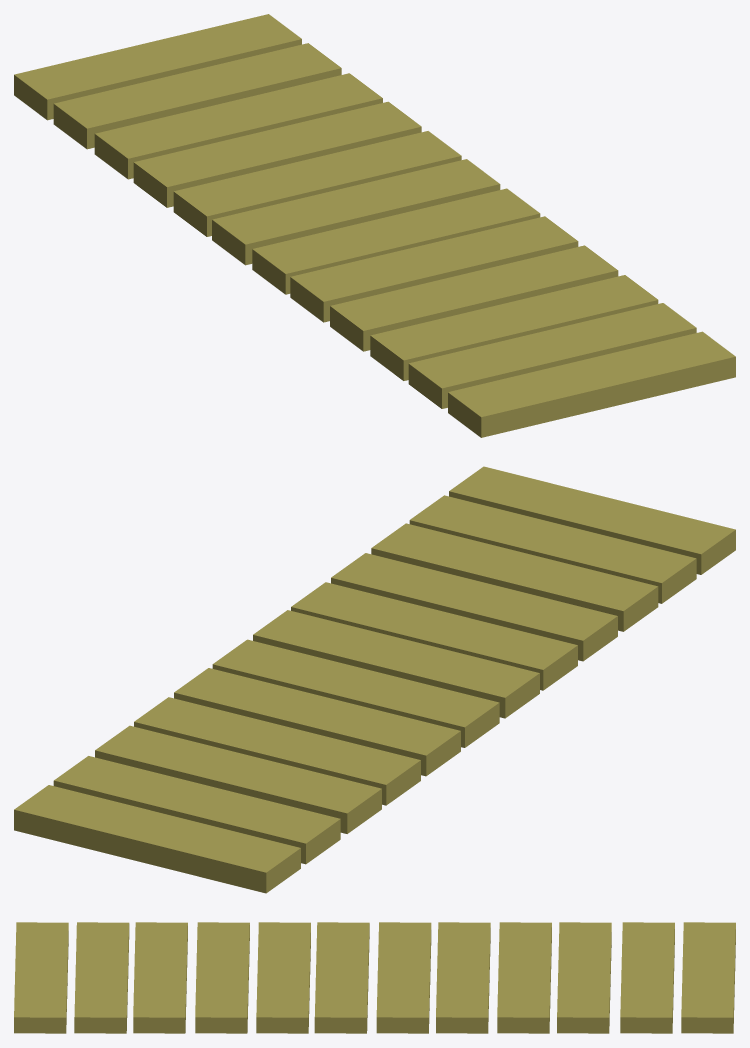
Rendered from bridgee.fbx.
3 renders of one model, top to bottom at view 1: azimuth 30°, elevation 25°; view 2: azimuth 150°, elevation 25°; view 3: azimuth 270°, elevation 25°, orthographic. The views are drawn at different scales.
Parts seen in each view (by area): view 1: polySurface219; view 2: polySurface219; view 3: polySurface219.
Part boxes in pixels (<box>): polySurface219: <box>14,14,735,437</box>; polySurface219: <box>14,466,735,893</box>; polySurface219: <box>14,922,735,1033</box>.
Size of the model in its own units: 0.2674 by 0.0209 by 0.8567.
